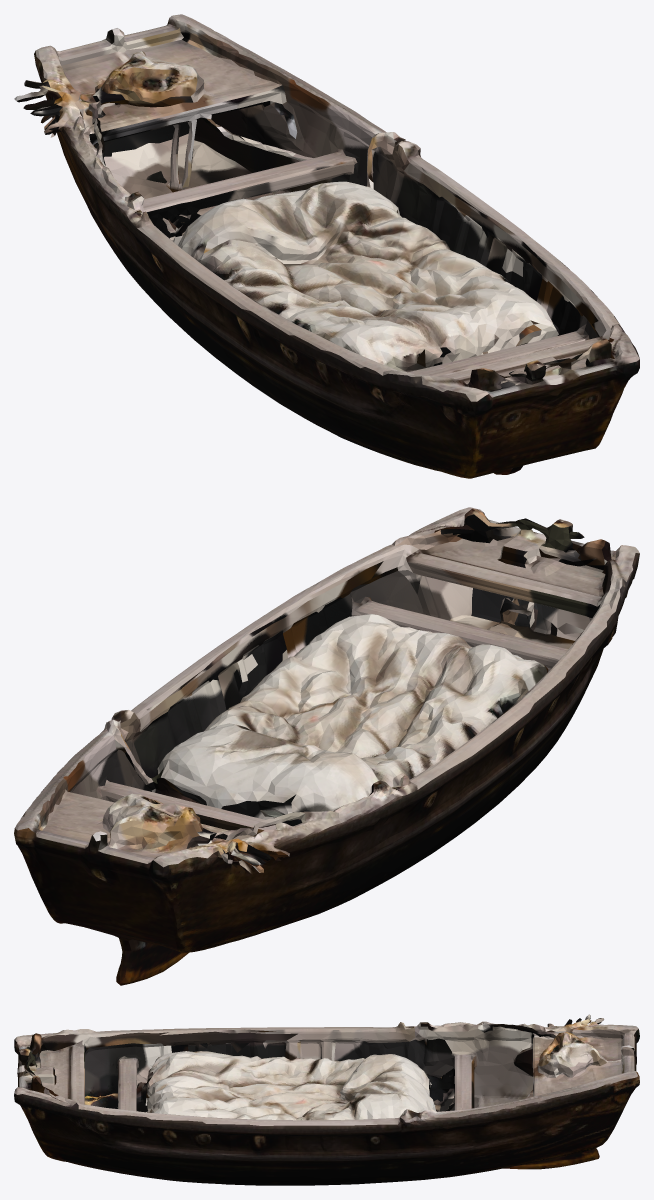
The model's file is traveler_env_coast_kudo_marsh_barge_00001_.glb.
3 renders of one model, top to bottom at view 1: azimuth 30°, elevation 25°; view 2: azimuth 150°, elevation 25°; view 3: azimuth 270°, elevation 25°, orthographic. The views are drawn at different scales.
Visible parts, largest first — view 1: temp_mesh.ply; view 2: temp_mesh.ply; view 3: temp_mesh.ply.
Boxes of the visible parts, x1,y1,x2,y2 form: temp_mesh.ply: (14,14,639,478); temp_mesh.ply: (14,507,639,985); temp_mesh.ply: (14,1014,639,1185).
Size of the model in its own units: 0.7442 by 0.4336 by 1.98.
Materials: 1 (1 with a texture image).
